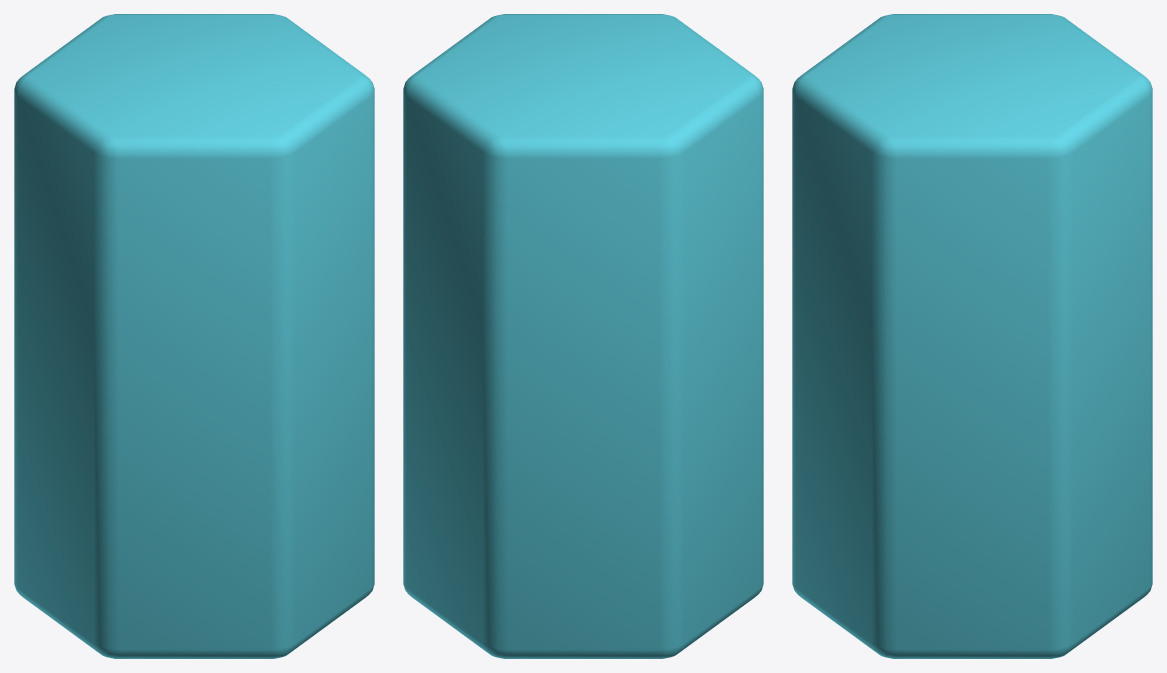
Rendered from hexagon.fbx.
The picture shows the model from 3 angles, left to right: view 1: azimuth 30°, elevation 25°; view 2: azimuth 150°, elevation 25°; view 3: azimuth 270°, elevation 25°; orthographic projection.
Parts seen in each view (by area): view 1: hexagon; view 2: hexagon; view 3: hexagon.
Part boxes in pixels (x1,y1,x2,y2): hexagon: (14,14,374,658); hexagon: (403,14,763,658); hexagon: (792,14,1152,658).
Size of the model in its own units: 173 by 311 by 195.
